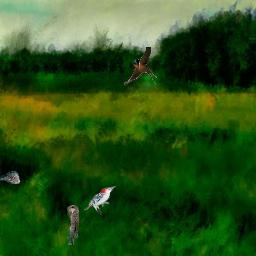Cuckoo: (67, 205, 79, 245)
Sparrow: (0, 171, 20, 184)
Swallow: (123, 47, 157, 87)
Woodpecker: (83, 186, 117, 215)
